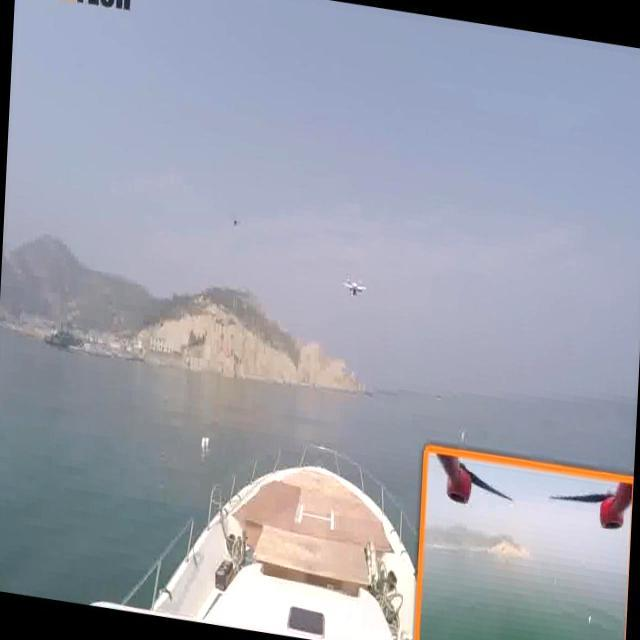drone: (342, 271, 365, 300), (222, 212, 250, 232)
